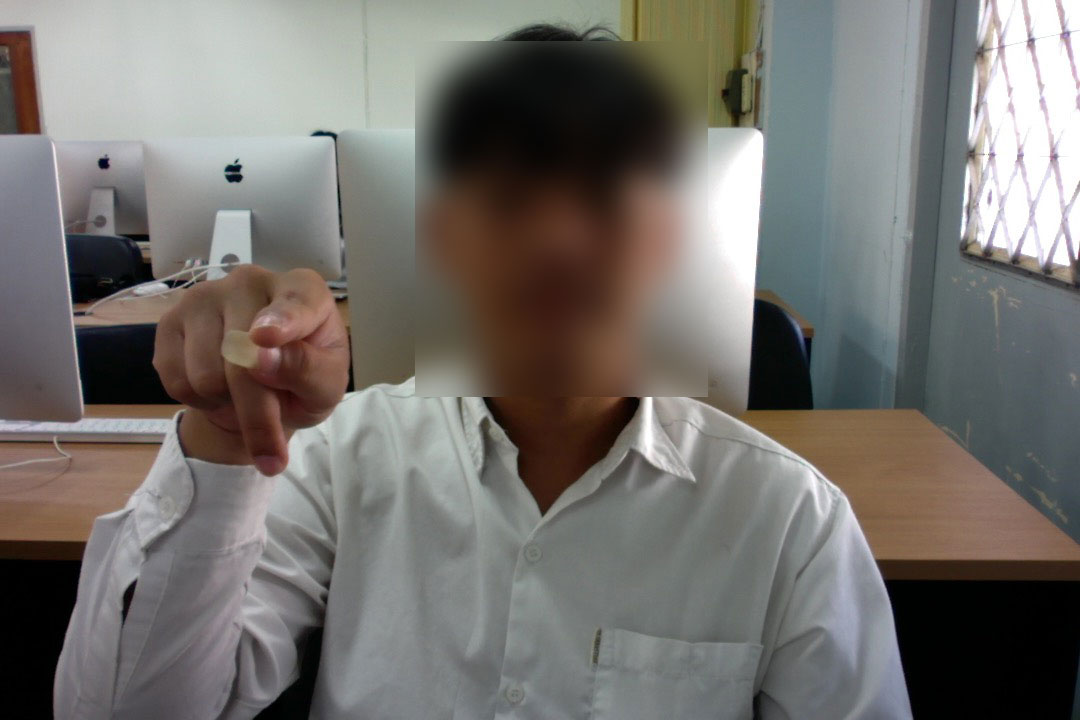por: (141, 253, 358, 483)
